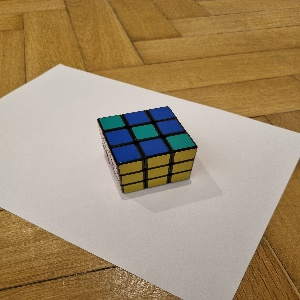cube: (98, 107, 199, 193)
